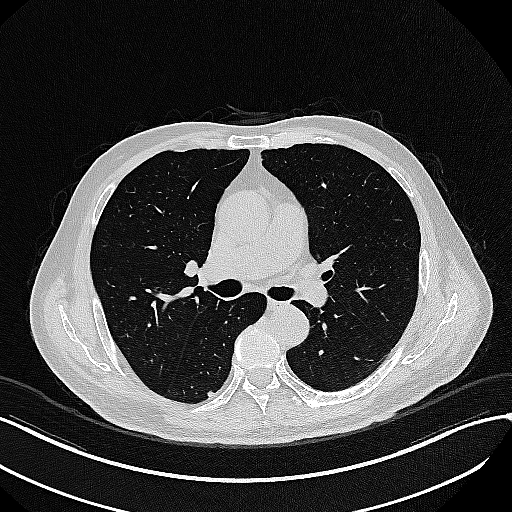nodule: (207, 390, 213, 397)
